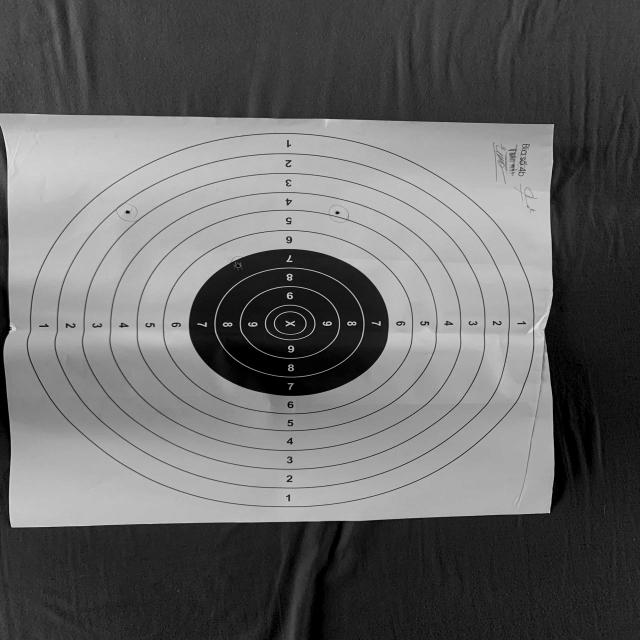bullet: (333, 208, 340, 216), (236, 264, 240, 271)
target: (0, 112, 556, 528)
